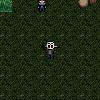Jason: (40, 39, 59, 60)
Slow: (0, 0, 12, 12)
Victim: (36, 0, 47, 12)
